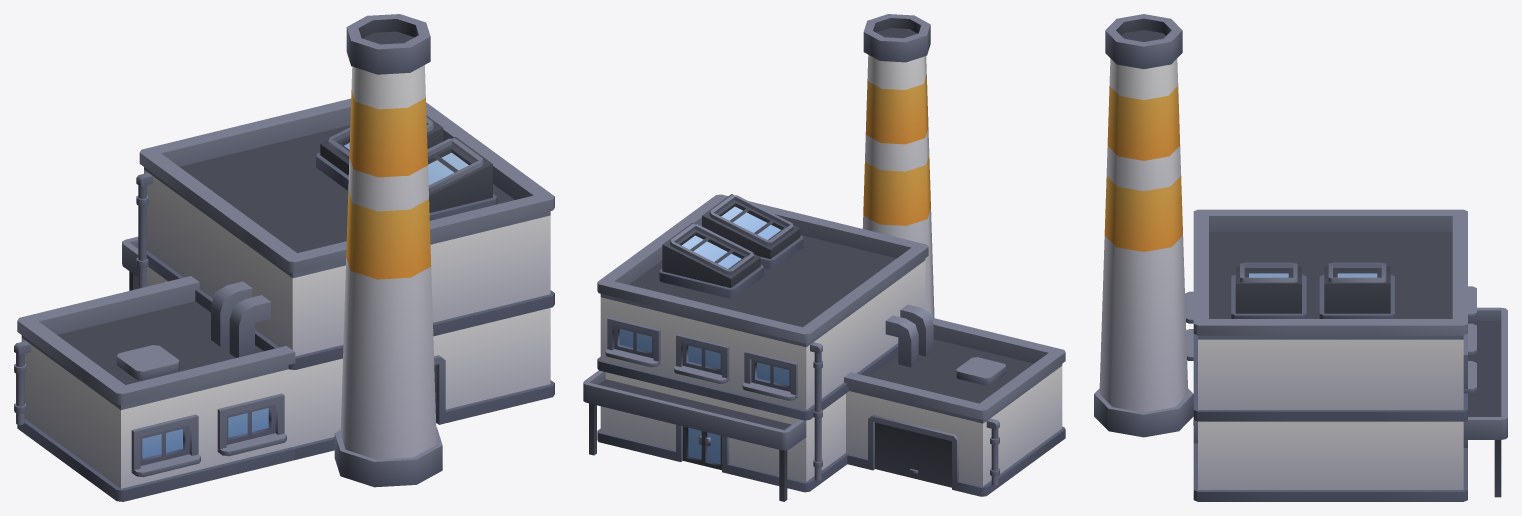
Rendered from building-l_lev1.glb.
The picture shows the model from 3 angles, left to right: view 1: azimuth 30°, elevation 25°; view 2: azimuth 150°, elevation 25°; view 3: azimuth 270°, elevation 25°; orthographic projection. The views are drawn at different scales.
Visible parts, largest first — view 1: building-l_lev1; view 2: building-l_lev1; view 3: building-l_lev1.
Boxes of the visible parts, bbox=[...] form: building-l_lev1: bbox=[14, 14, 554, 501]; building-l_lev1: bbox=[583, 14, 1065, 501]; building-l_lev1: bbox=[1094, 14, 1507, 501].
Size of the model in its own units: 9.53 by 8.81 by 8.56.
1 material, 1 textured.
